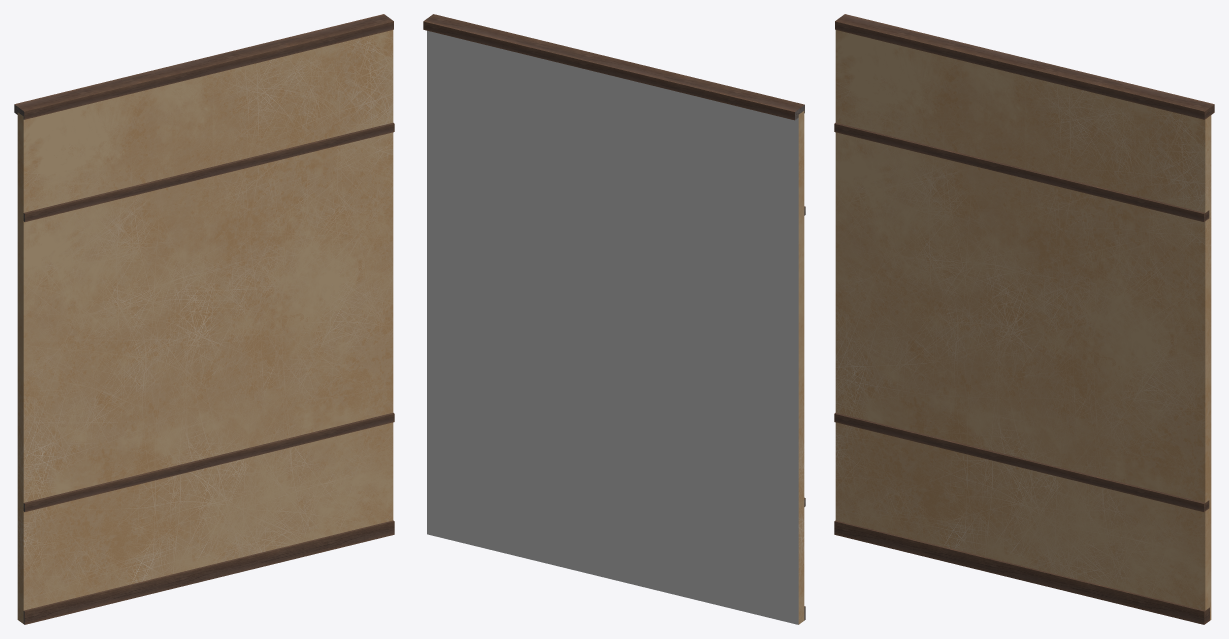
Rendered from outwall01_1t.fbx.
The picture shows the model from 3 angles, left to right: view 1: azimuth 30°, elevation 25°; view 2: azimuth 150°, elevation 25°; view 3: azimuth 330°, elevation 25°; orthographic projection.
Parts seen in each view (by area): view 1: outwall01_1t; view 2: outwall01_1t; view 3: outwall01_1t.
Part boxes in pixels (<box>): outwall01_1t: <box>14,14,394,624</box>; outwall01_1t: <box>423,14,805,624</box>; outwall01_1t: <box>834,14,1214,624</box>.
Size of the model in its own units: 220 by 292 by 11.05.
